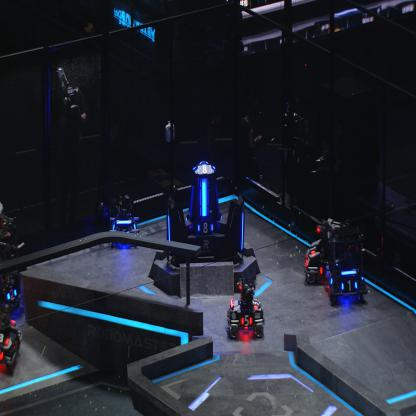car: (322, 223, 368, 304), (0, 209, 29, 314), (302, 218, 346, 283), (227, 274, 265, 338), (109, 194, 138, 249), (0, 305, 23, 372)
